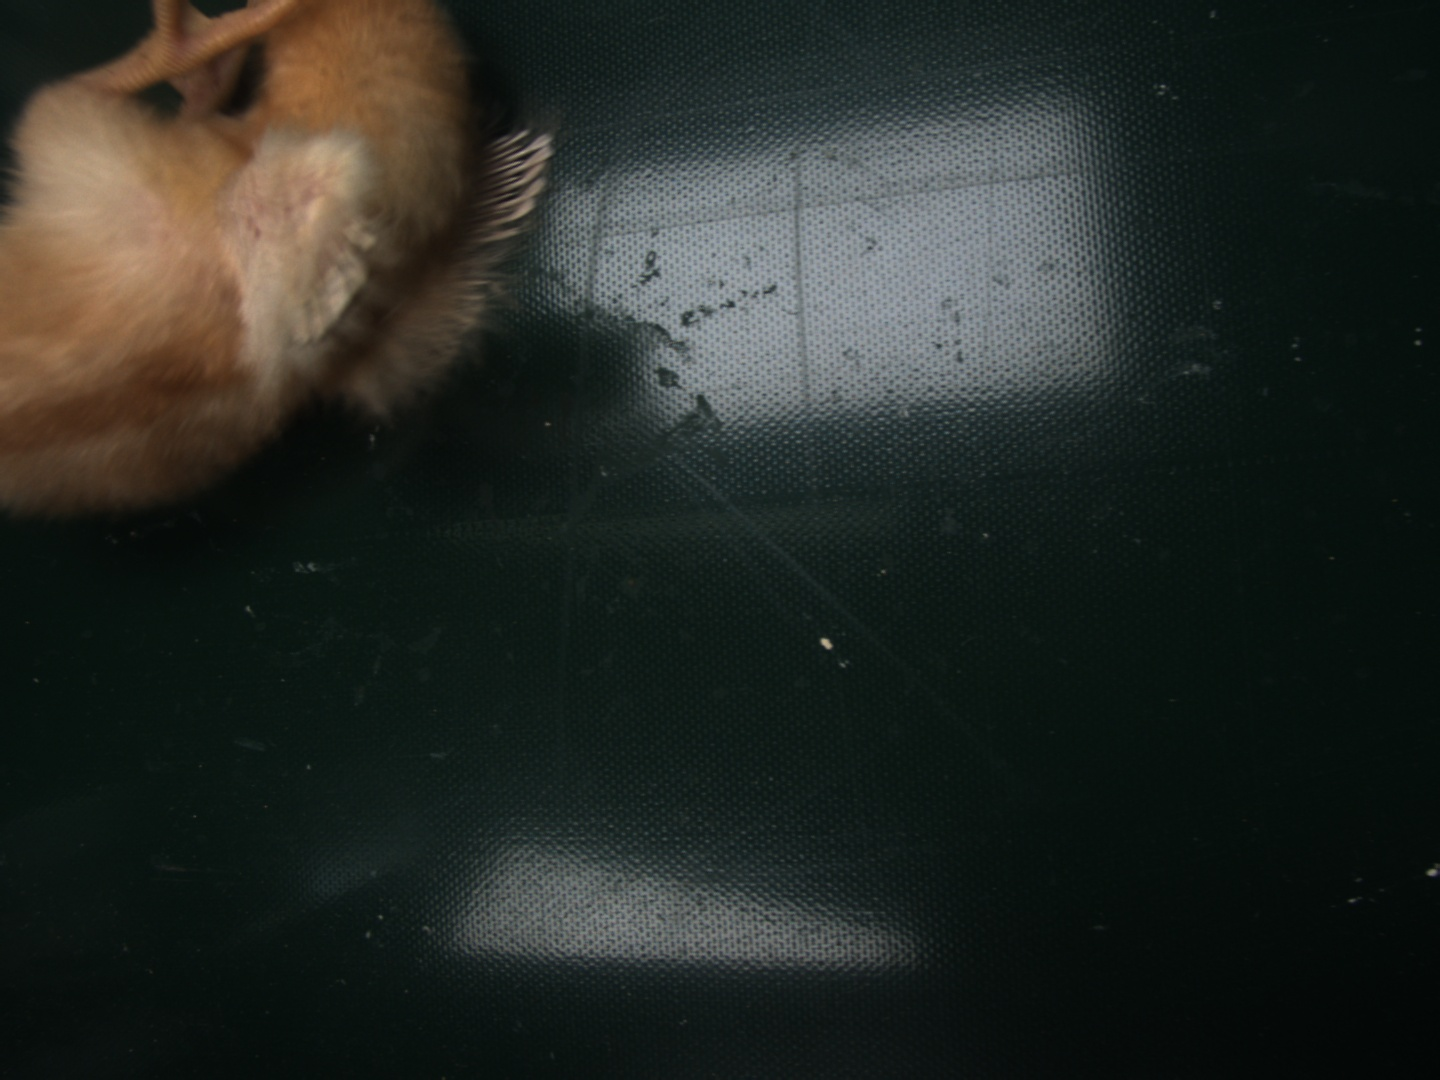female: (469, 129, 547, 241)
